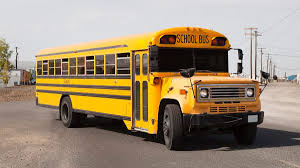bus: (34, 26, 265, 151)
